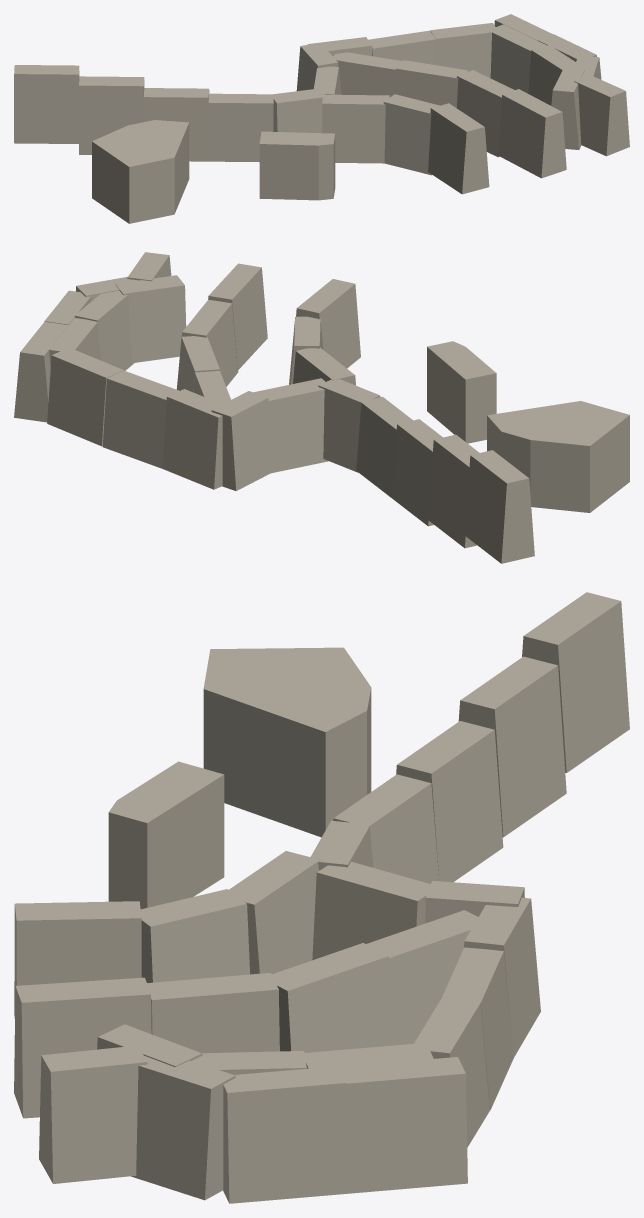
File: bormla_62_25_far.glb
The picture shows the model from 3 angles, top to bottom: view 1: azimuth 30°, elevation 25°; view 2: azimuth 150°, elevation 25°; view 3: azimuth 270°, elevation 25°; orthographic projection. The views are drawn at different scales.
Parts seen in each view (by area): view 1: geometry_0; view 2: geometry_0; view 3: geometry_0.
Boxes of the visible parts, box(x1,y1,x2,y2) form: geometry_0: box(14, 14, 629, 223); geometry_0: box(14, 252, 629, 563); geometry_0: box(14, 592, 629, 1203).
Size of the model in its own units: 106 by 17.86 by 60.8.
